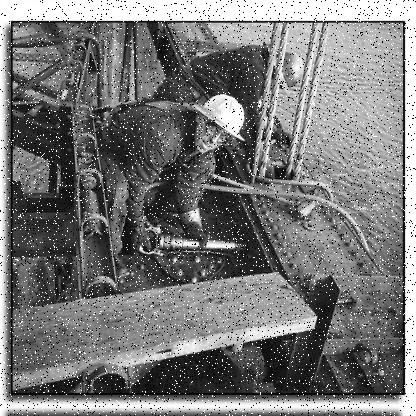Helmet: (190, 96, 247, 152), (262, 43, 306, 91)
